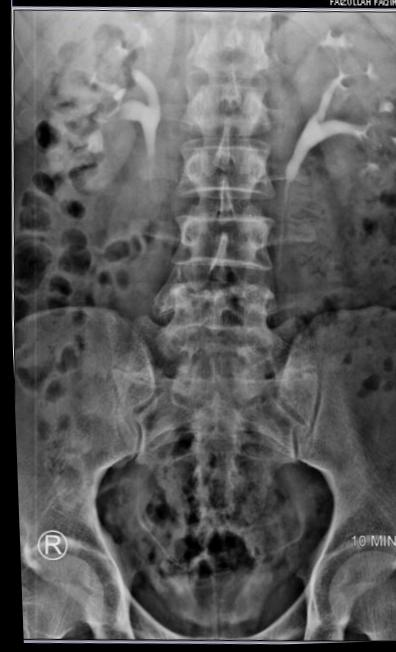left kidney: (289, 17, 395, 216)
right kidney: (39, 16, 164, 216)
vertebrae: (175, 69, 270, 143)
